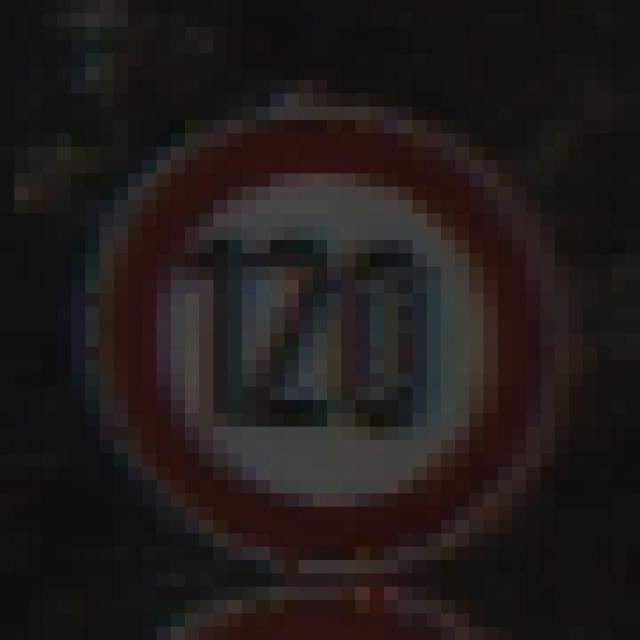Ograniczenie predkosci do 120: (88, 108, 557, 564)
